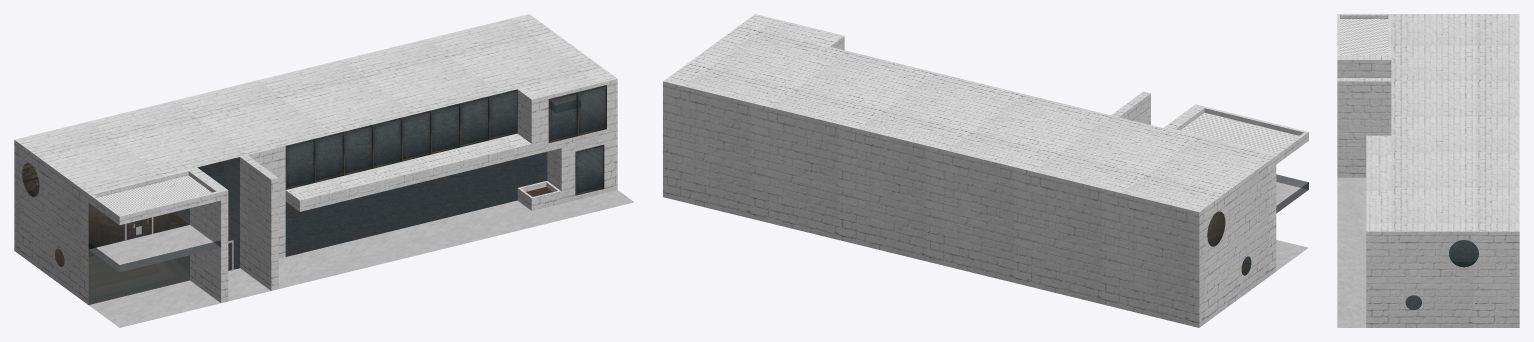
The model's file is brick_modern_home.glb.
The picture shows the model from 3 angles, left to right: view 1: azimuth 30°, elevation 25°; view 2: azimuth 150°, elevation 25°; view 3: azimuth 270°, elevation 25°; orthographic projection. The views are drawn at different scales.
Visible parts, largest first — view 1: Material2 (×8), Material3; view 2: Material2 (×5), Material3; view 3: Material2 (×5).
Boxes of the visible parts, x1,y1,x2,y2 form: Material2 (×8): [14, 14, 633, 327]; Material3: [28, 189, 189, 266]; Material2 (×5): [663, 14, 1308, 327]; Material3: [1207, 211, 1250, 275]; Material2 (×5): [1337, 14, 1519, 327].
Size of the model in its own units: 3237 by 668 by 1147.
15 materials, 14 textured.
